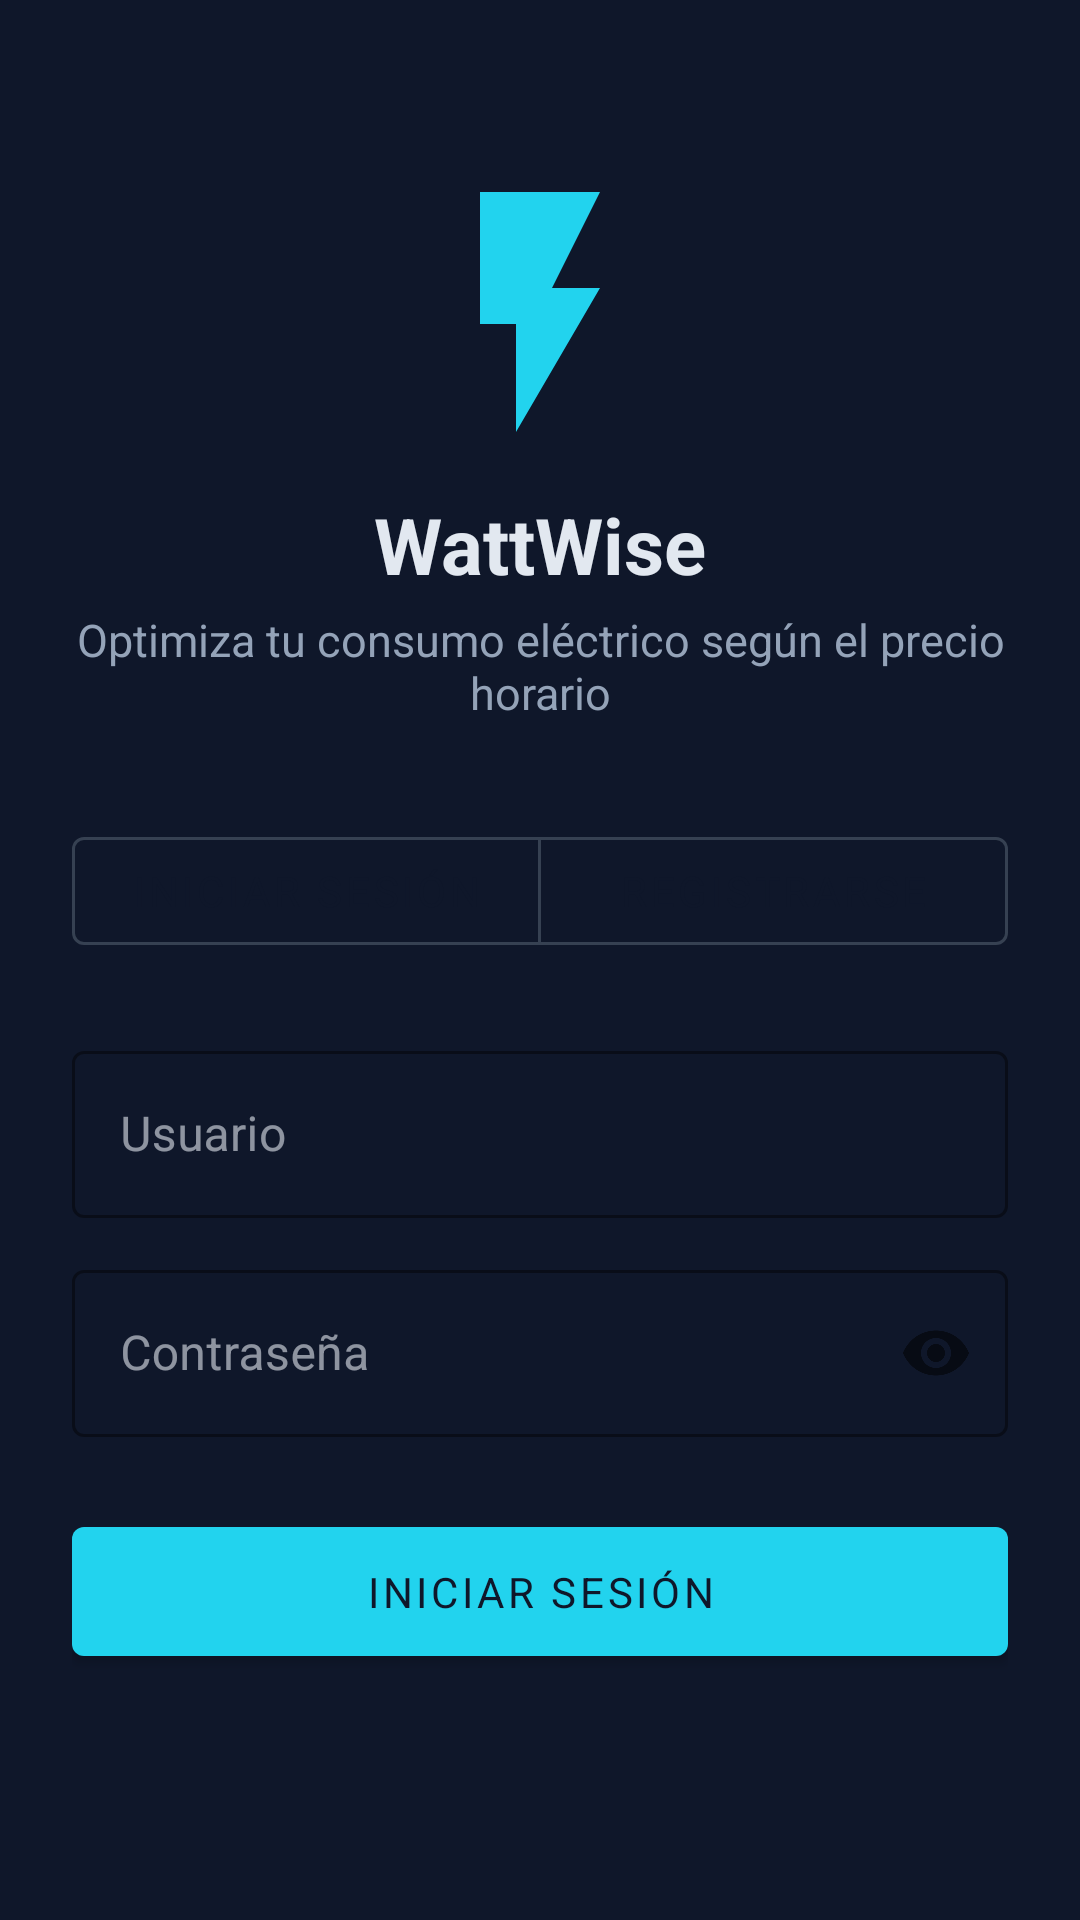

Icons on this 1080px×1920px Android screen, each with its box as (x1, y1, x2, y2):
bolt: (480, 192, 600, 432)
